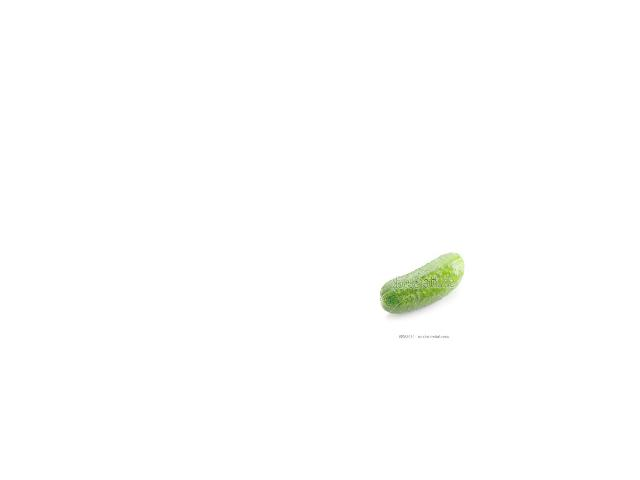cucumber: (379, 252, 463, 314)
